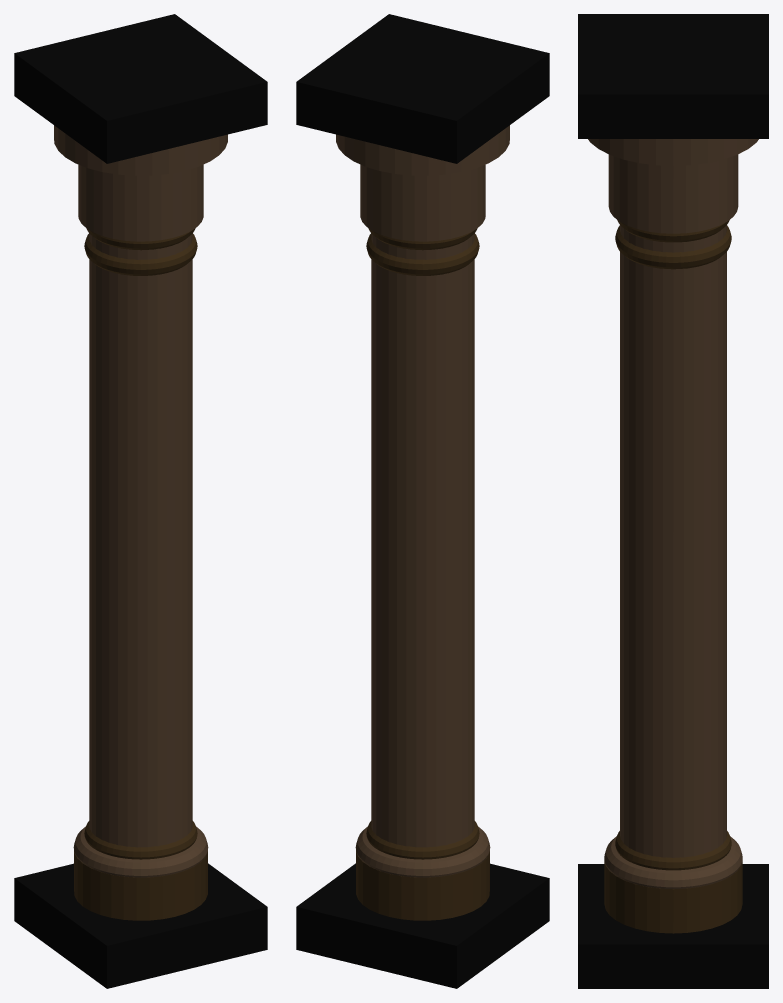
File: pillar2.fbx
The picture shows the model from 3 angles, left to right: view 1: azimuth 30°, elevation 25°; view 2: azimuth 150°, elevation 25°; view 3: azimuth 270°, elevation 25°; orthographic projection. The views are drawn at different scales.
Parts seen in each view (by area): view 1: Cylinder.003, Cube.002, Cube.001, Cylinder.005, Cylinder.004, Cylinder.006, Torus.012, Torus.010, Torus.005, Torus.009; view 2: Cylinder.003, Cube.002, Cube.001, Cylinder.005, Cylinder.004, Cylinder.006, Torus.012, Torus.010, Torus.005, Torus.009; view 3: Cylinder.003, Cube.002, Cube.001, Cylinder.005, Cylinder.004, Cylinder.006, Torus.012, Torus.010, Torus.005, Torus.009.
Boxes of the visible parts, box(x1,y1,x2,y2) form: Cylinder.003: box(89, 233, 192, 847); Cube.002: box(14, 14, 267, 163); Cube.001: box(14, 863, 267, 988); Cylinder.005: box(78, 164, 203, 241); Cylinder.004: box(74, 851, 207, 920); Cylinder.006: box(54, 125, 227, 175); Torus.012: box(73, 826, 208, 877); Torus.010: box(84, 233, 197, 275); Torus.005: box(84, 821, 197, 859); Torus.009: box(86, 228, 195, 250); Cylinder.003: box(371, 233, 474, 847); Cube.002: box(296, 14, 549, 163); Cube.001: box(296, 863, 549, 988); Cylinder.005: box(360, 164, 485, 241); Cylinder.004: box(356, 851, 489, 920); Cylinder.006: box(336, 125, 509, 175); Torus.012: box(355, 826, 490, 877); Torus.010: box(366, 233, 479, 275); Torus.005: box(366, 821, 479, 859); Torus.009: box(368, 228, 477, 250); Cylinder.003: box(620, 225, 726, 857); Cube.002: box(578, 14, 768, 138); Cube.001: box(578, 864, 768, 988); Cylinder.005: box(608, 154, 738, 233); Cylinder.004: box(604, 860, 742, 933); Cylinder.006: box(588, 139, 758, 165); Torus.012: box(604, 836, 742, 888); Torus.010: box(615, 225, 731, 269); Torus.005: box(615, 831, 731, 870); Torus.009: box(617, 220, 729, 242).
Size of the model in its own units: 282 by 1456 by 282.
